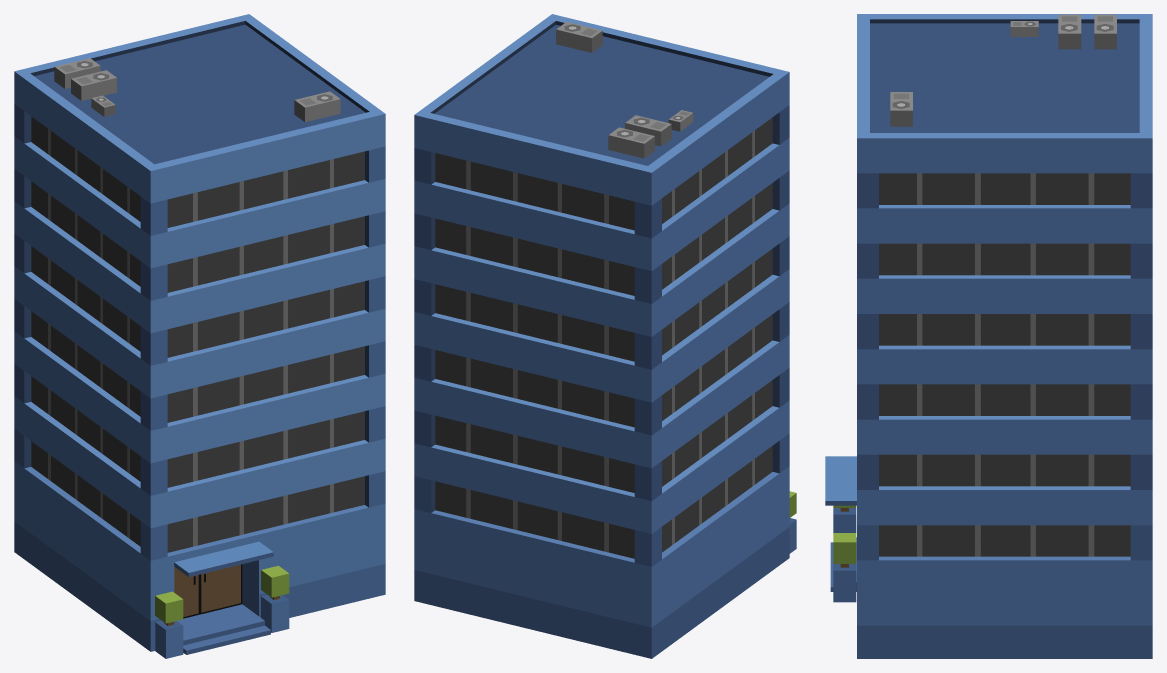
The model's file is office_large_blue.obj.
3 renders of one model, left to right at view 1: azimuth 30°, elevation 25°; view 2: azimuth 150°, elevation 25°; view 3: azimuth 270°, elevation 25°, orthographic. The views are drawn at different scales.
Parts seen in each view (by area): view 1: ST_Building_OfficeLarge_Blue_Untitled; view 2: ST_Building_OfficeLarge_Blue_Untitled; view 3: ST_Building_OfficeLarge_Blue_Untitled.
Part boxes in pixels (<box>): ST_Building_OfficeLarge_Blue_Untitled: <box>14,14,385,658</box>; ST_Building_OfficeLarge_Blue_Untitled: <box>414,14,796,658</box>; ST_Building_OfficeLarge_Blue_Untitled: <box>825,14,1152,658</box>.
Size of the model in its own units: 13.62 by 27.24 by 15.17.
1 material, 1 textured.
